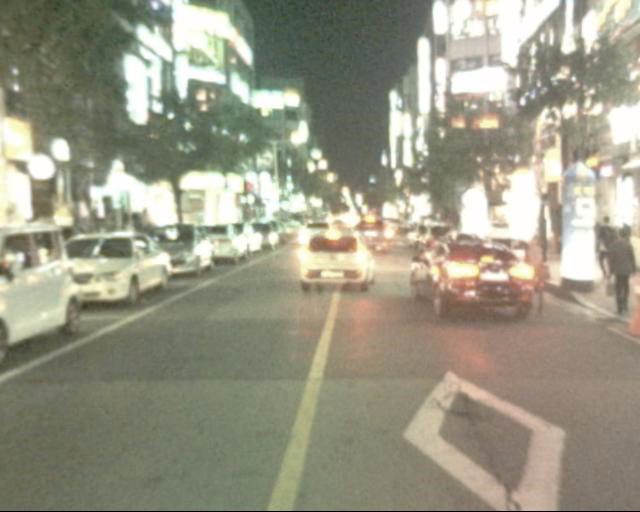person: (596, 223, 640, 325), (515, 228, 559, 316)
